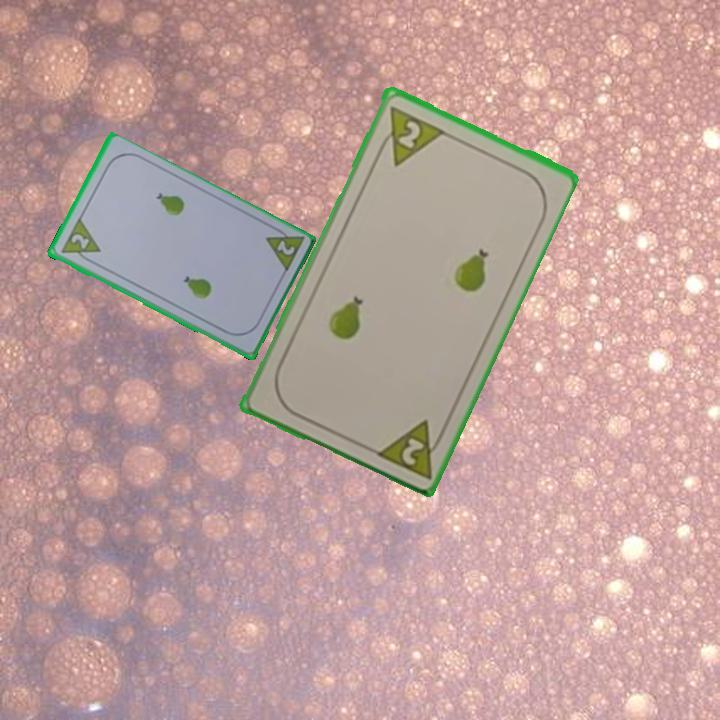2p: (371, 415, 450, 481), (371, 101, 446, 169), (261, 222, 306, 276), (67, 230, 92, 252)
